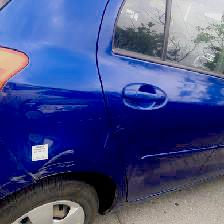door_scratch: (32, 113, 183, 122)
